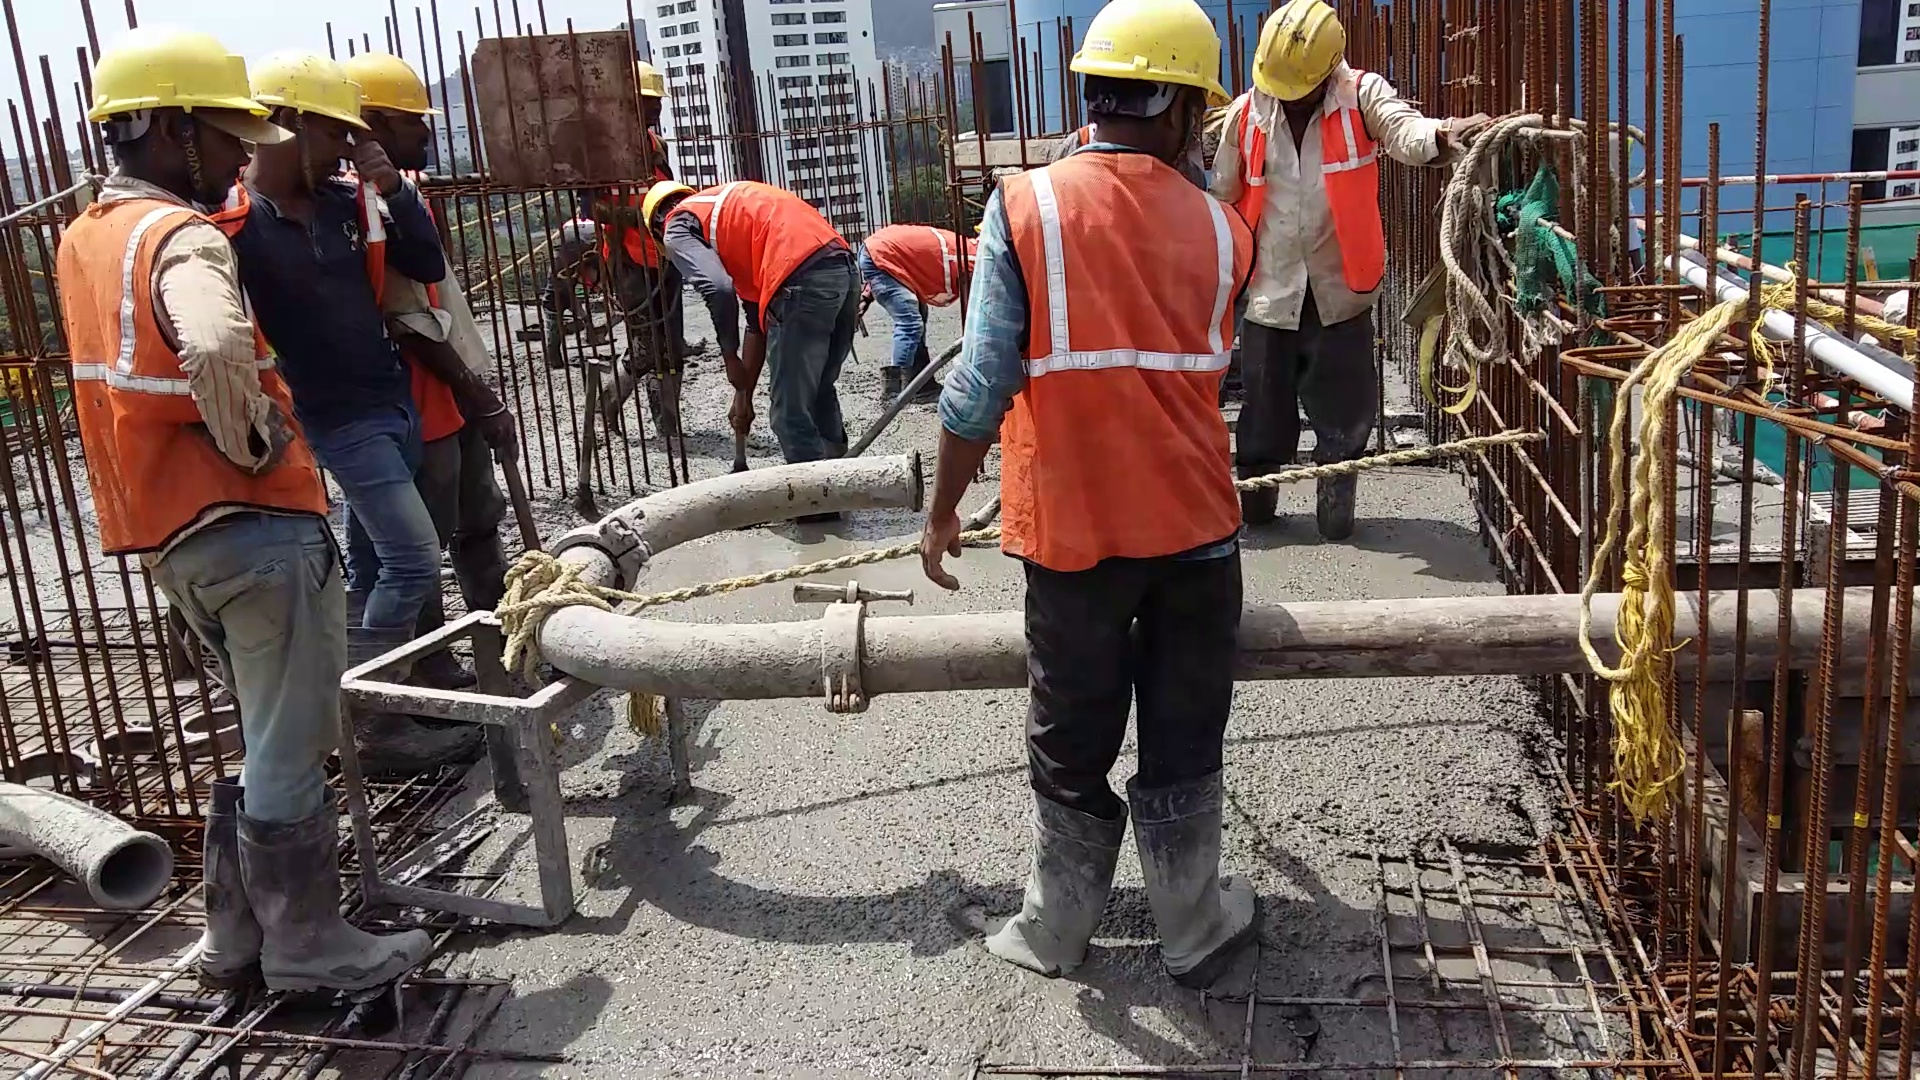SAFE: (1014, 3, 1232, 556), (61, 26, 244, 568), (1226, 1, 1379, 323), (637, 164, 860, 319), (363, 42, 442, 429)
